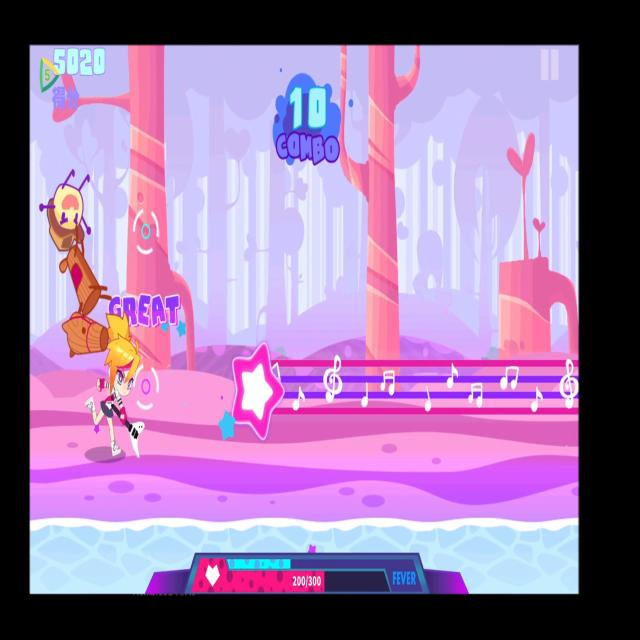hold: (225, 328, 585, 444)
